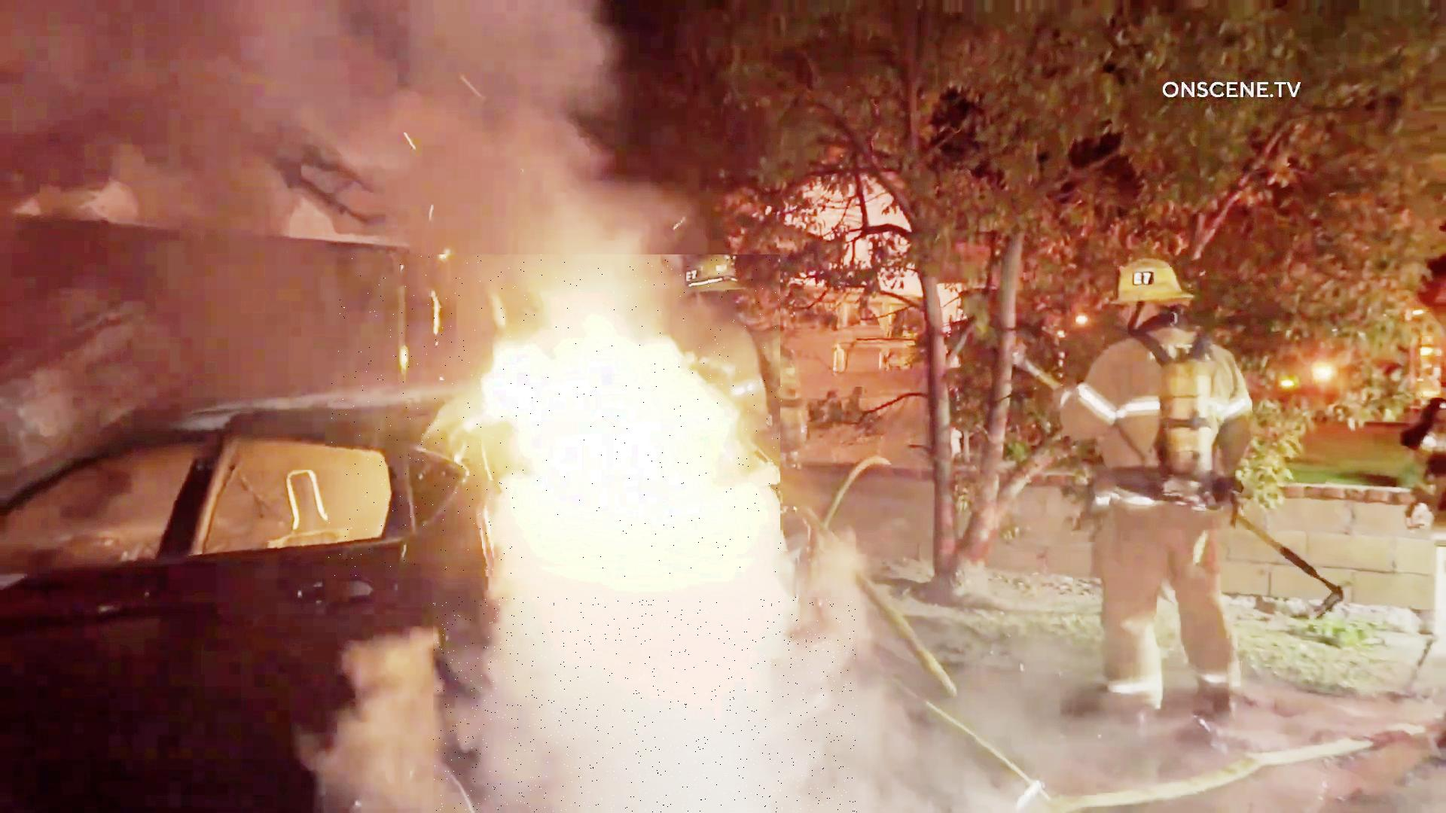fire: (328, 255, 782, 577)
smoke: (433, 598, 858, 813)
